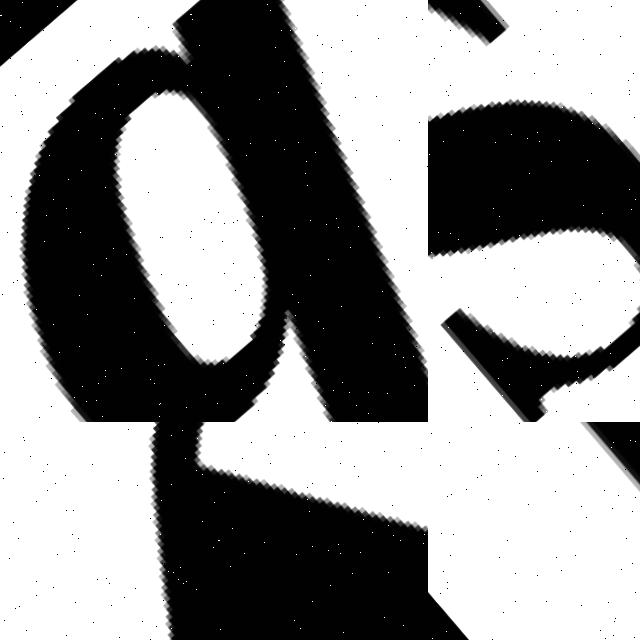B: (19, 0, 428, 422)
L: (428, 422, 640, 640)
S: (428, 0, 640, 422)
Y: (0, 422, 428, 640)
